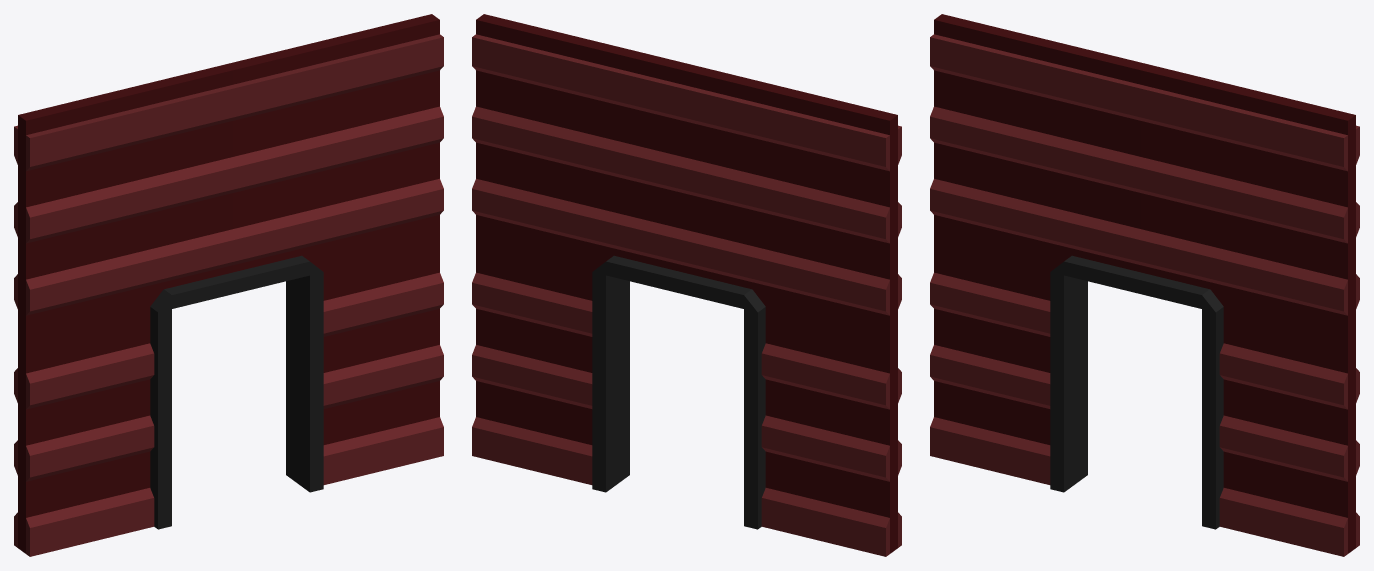
Rendered from Small_Wall_Door_Interior.glb.
The picture shows the model from 3 angles, left to right: view 1: azimuth 30°, elevation 25°; view 2: azimuth 150°, elevation 25°; view 3: azimuth 330°, elevation 25°; orthographic projection.
Parts seen in each view (by area): view 1: Door_Wall, Small_Interior, Door_Frame; view 2: Door_Wall, Small_Interior, Door_Frame; view 3: Door_Wall, Small_Interior, Door_Frame.
Part boxes in pixels (left/top/right/bottom): Door_Wall: left=18, top=14, right=439, bottom=553; Small_Interior: left=14, top=34, right=443, bottom=556; Door_Frame: left=150, top=255, right=323, bottom=529; Door_Wall: left=476, top=14, right=897, bottom=553; Small_Interior: left=472, top=34, right=901, bottom=556; Door_Frame: left=592, top=255, right=765, bottom=529; Door_Wall: left=934, top=14, right=1355, bottom=553; Small_Interior: left=930, top=34, right=1359, bottom=556; Door_Frame: left=1050, top=255, right=1223, bottom=529.
Size of the model in its own units: 6 by 6 by 0.6.
